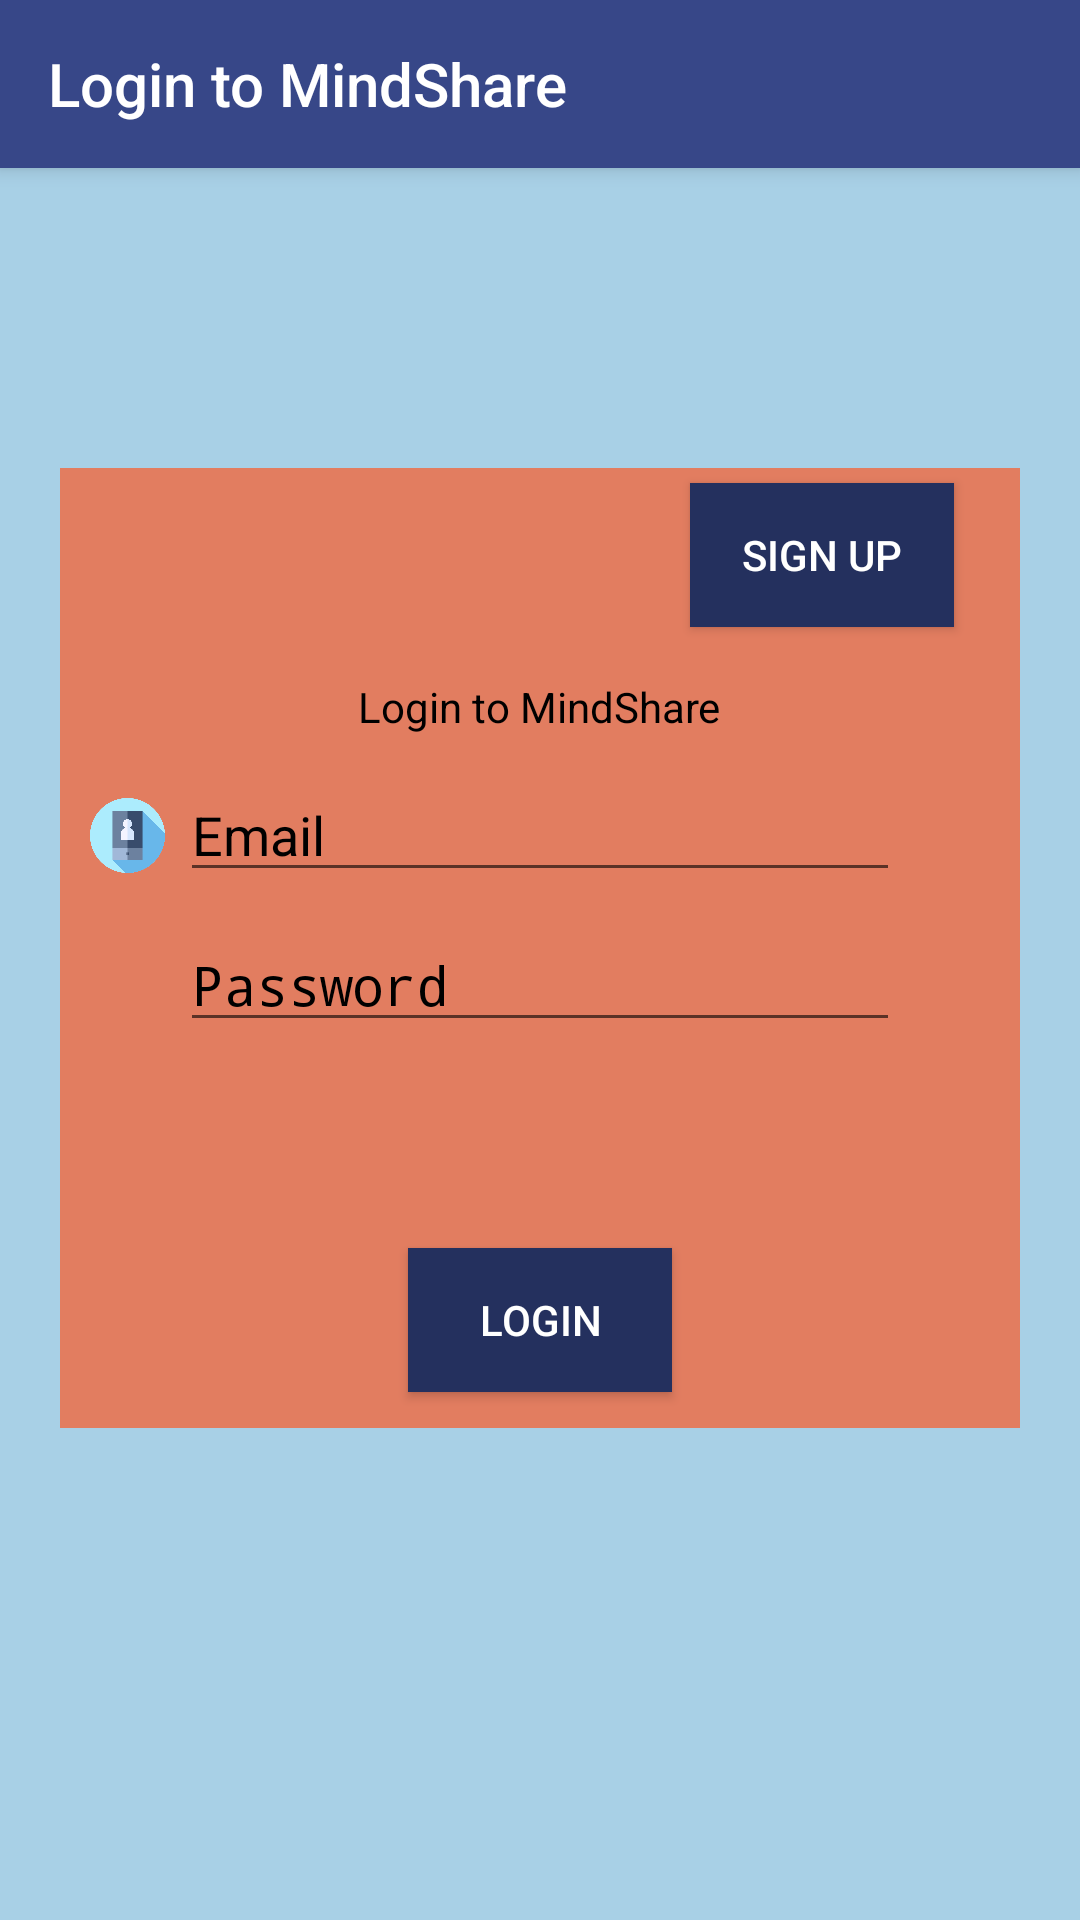

Icon bounding boxes for this 1080px×1920px phone screenshot, format (x1, y1, x2, y2):
login headericon: (90, 798, 165, 873)
